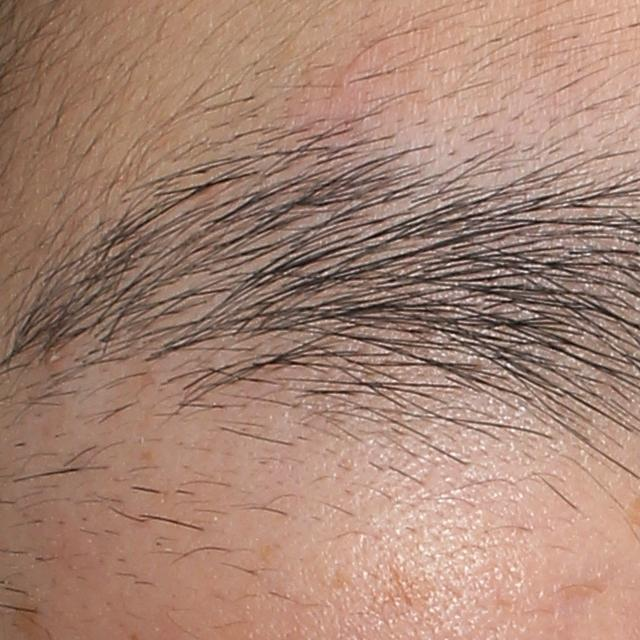melasma: (359, 563, 436, 617)
